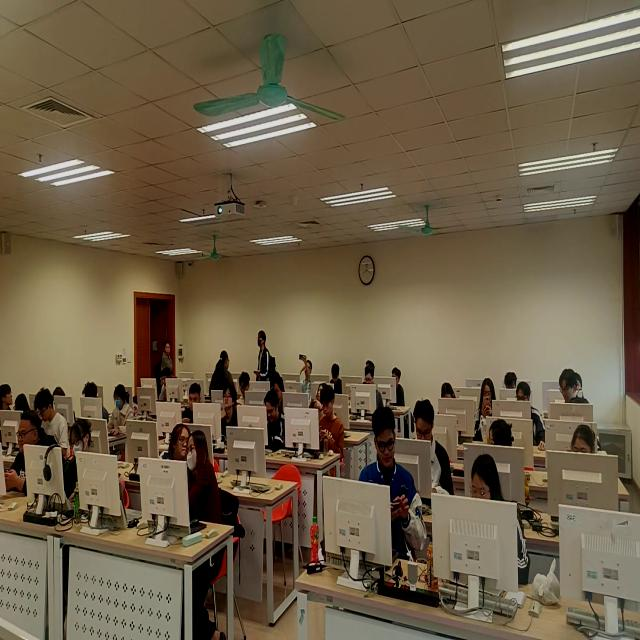raise_head: (221, 382, 240, 440), (311, 378, 324, 419)
stand: (209, 346, 236, 398), (256, 324, 276, 385), (156, 339, 175, 380)
using_computer: (469, 452, 531, 589), (412, 395, 455, 500), (63, 417, 93, 502), (36, 388, 71, 454), (516, 380, 547, 450), (262, 390, 287, 453), (109, 383, 136, 438), (82, 383, 111, 421), (569, 423, 598, 460), (363, 365, 384, 410), (557, 370, 581, 407), (183, 382, 202, 425), (390, 365, 406, 405), (14, 388, 34, 416), (436, 380, 458, 405), (240, 369, 252, 407), (331, 362, 346, 392), (159, 368, 170, 402), (275, 375, 288, 403), (503, 372, 518, 391)
using_phone: (358, 404, 427, 563), (8, 406, 58, 499), (317, 382, 344, 463), (474, 371, 495, 441), (294, 350, 313, 401)
